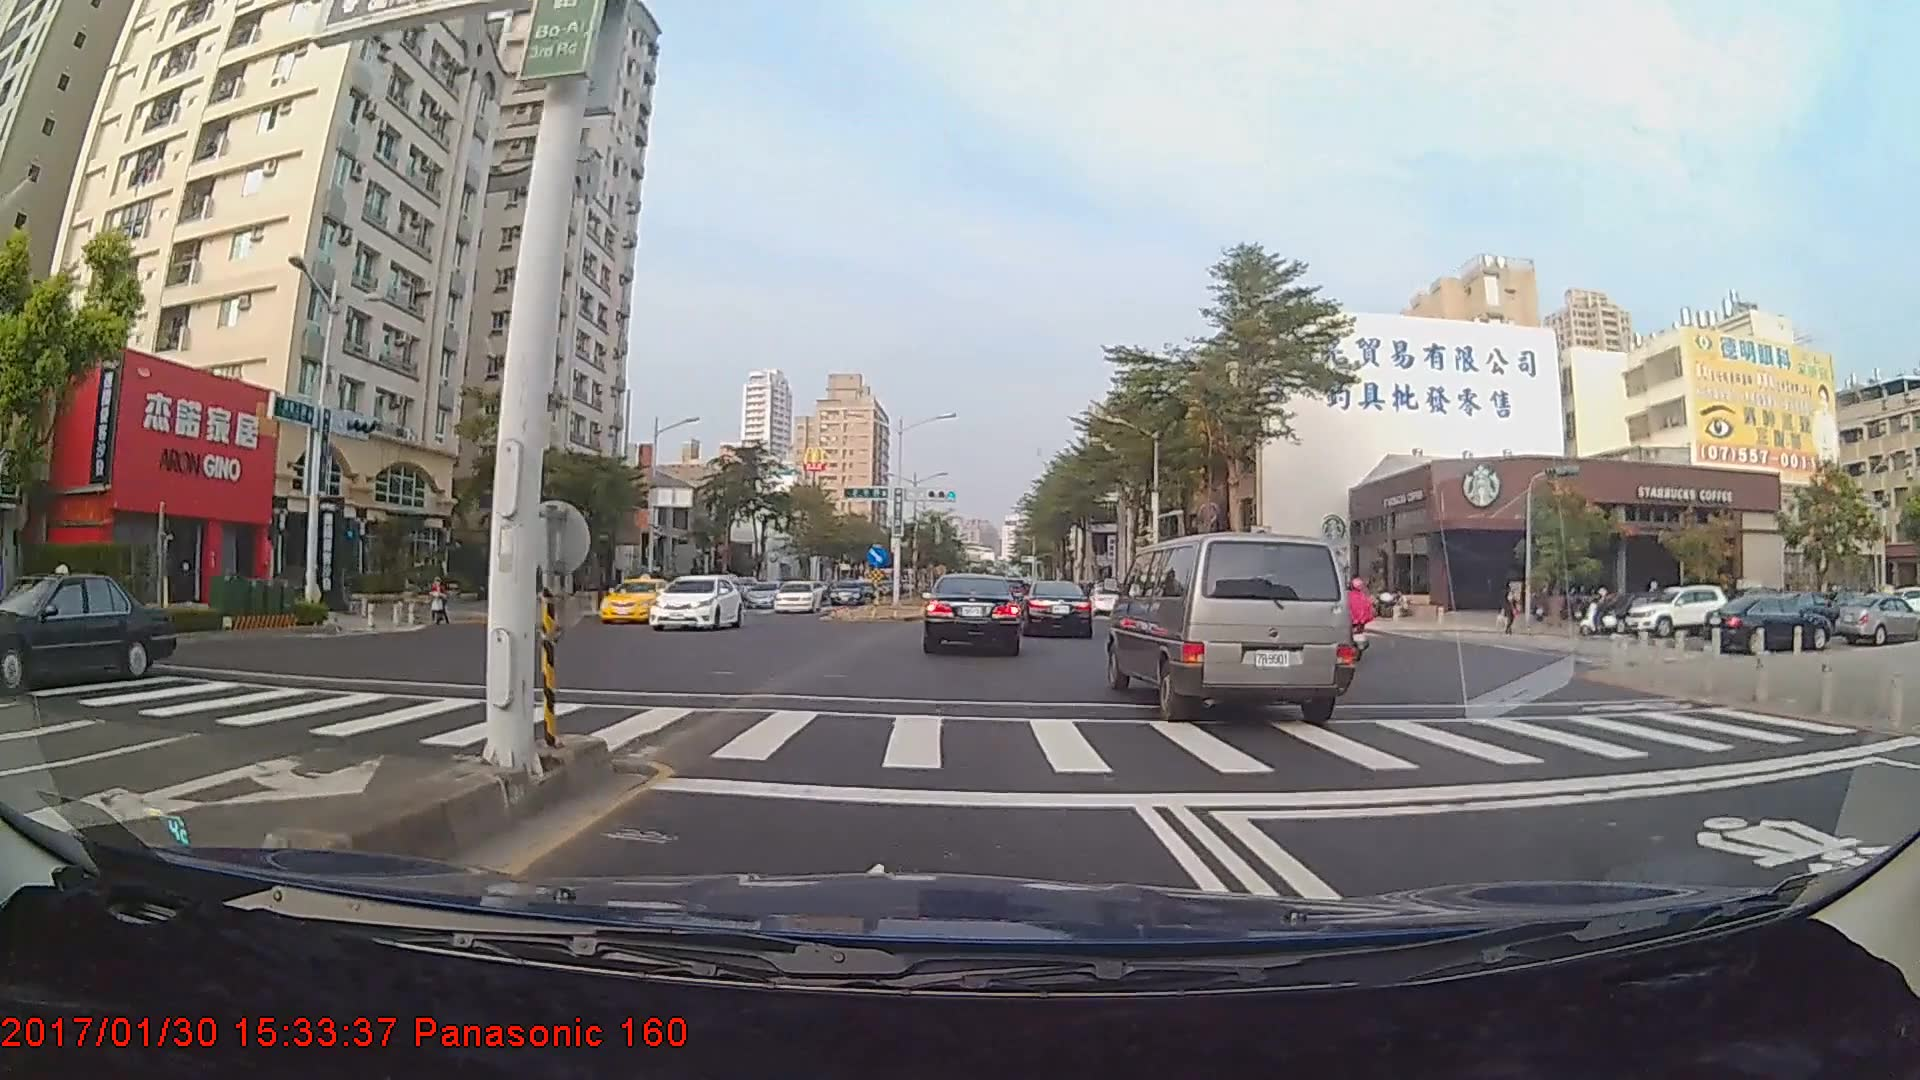rider: (1584, 584, 1627, 641)
vehicle: (1110, 531, 1354, 722), (0, 571, 174, 684), (920, 573, 1023, 655), (1701, 589, 1832, 649), (648, 572, 745, 632), (1622, 586, 1729, 638), (1019, 579, 1093, 639), (1830, 592, 1913, 645), (598, 577, 680, 625), (771, 581, 821, 613), (830, 578, 865, 604)
